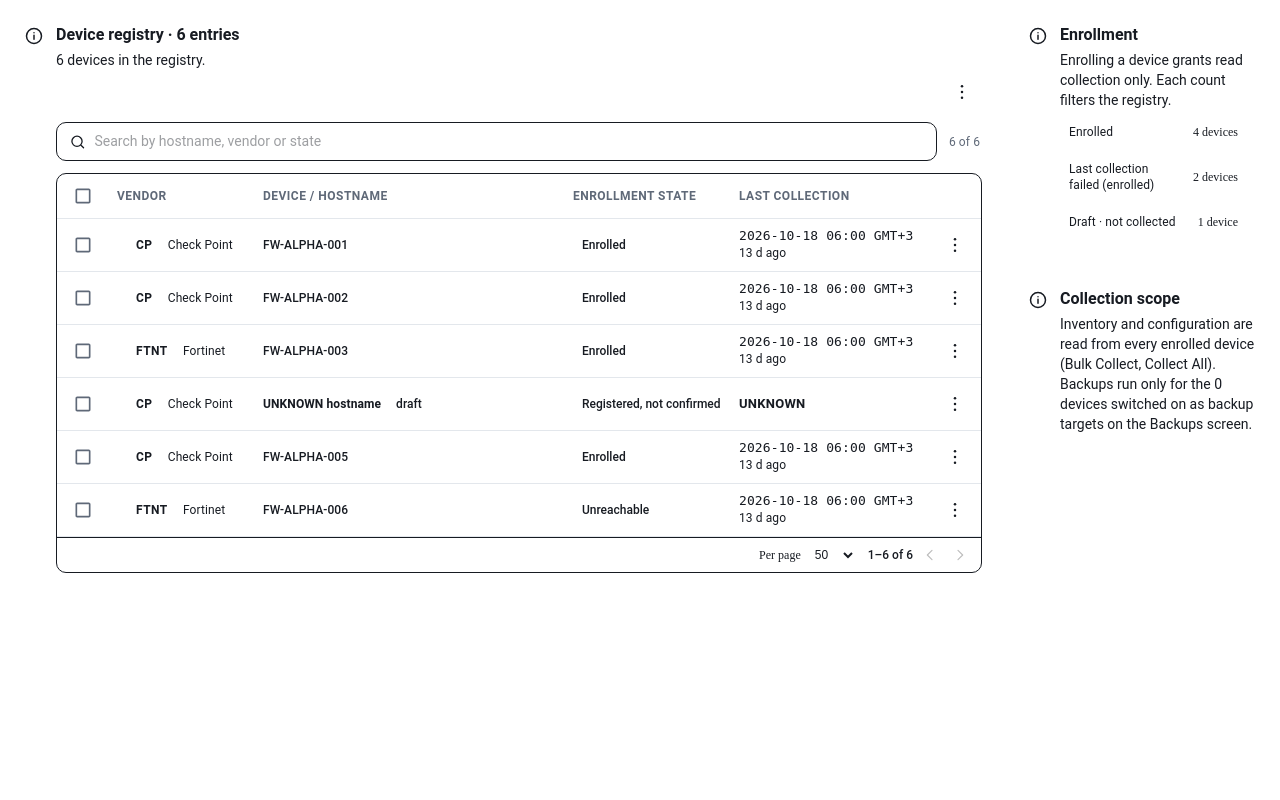
Administration device registry (UI review 2026-10-18, F-22) › selects only the rows the filters leave, so a bulk delete never reaches a row that is not in view
Expected: the text "FW-ALPHA-001" is shown, [263,238,348,252]
Click the button "Draft · not collected 1 device" at (1158,222), box [1060,204,1256,240]
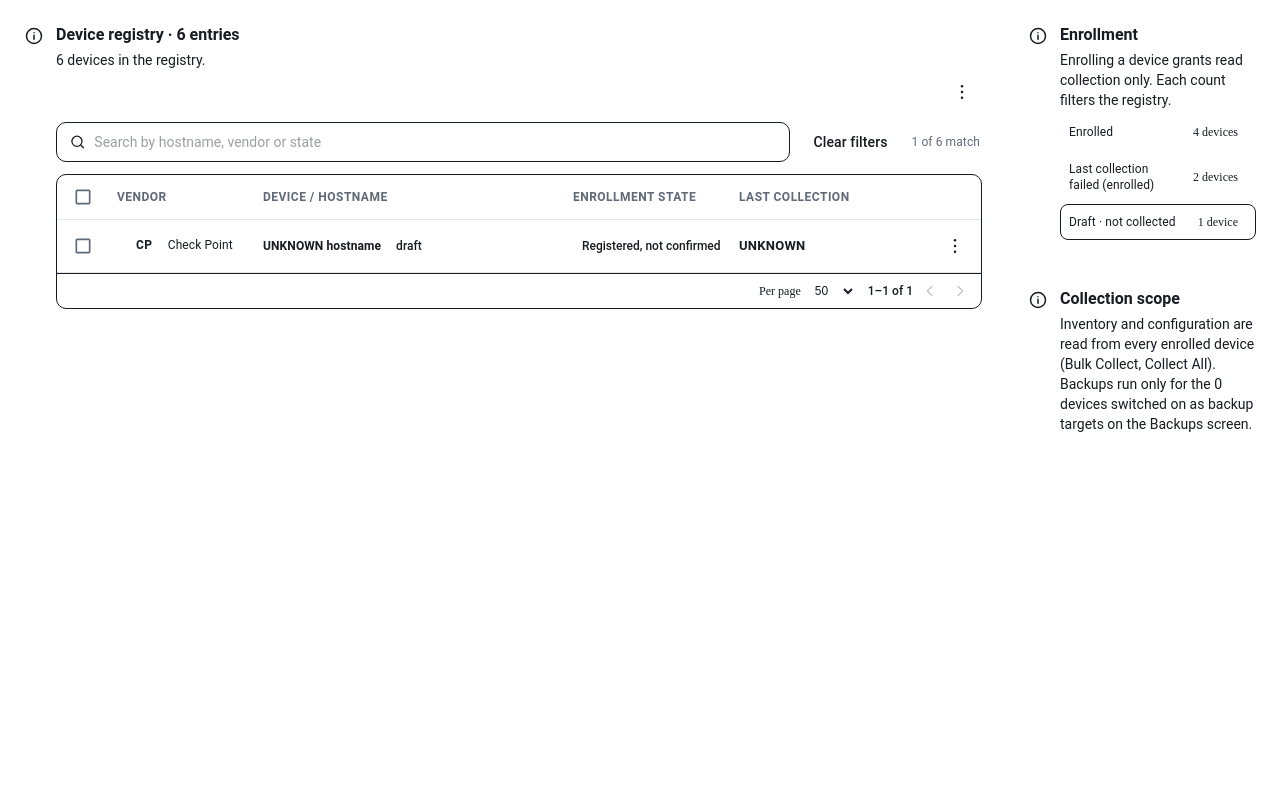
Click the checkbox named "Select all devices" at (83,197), box [73,187,93,207]
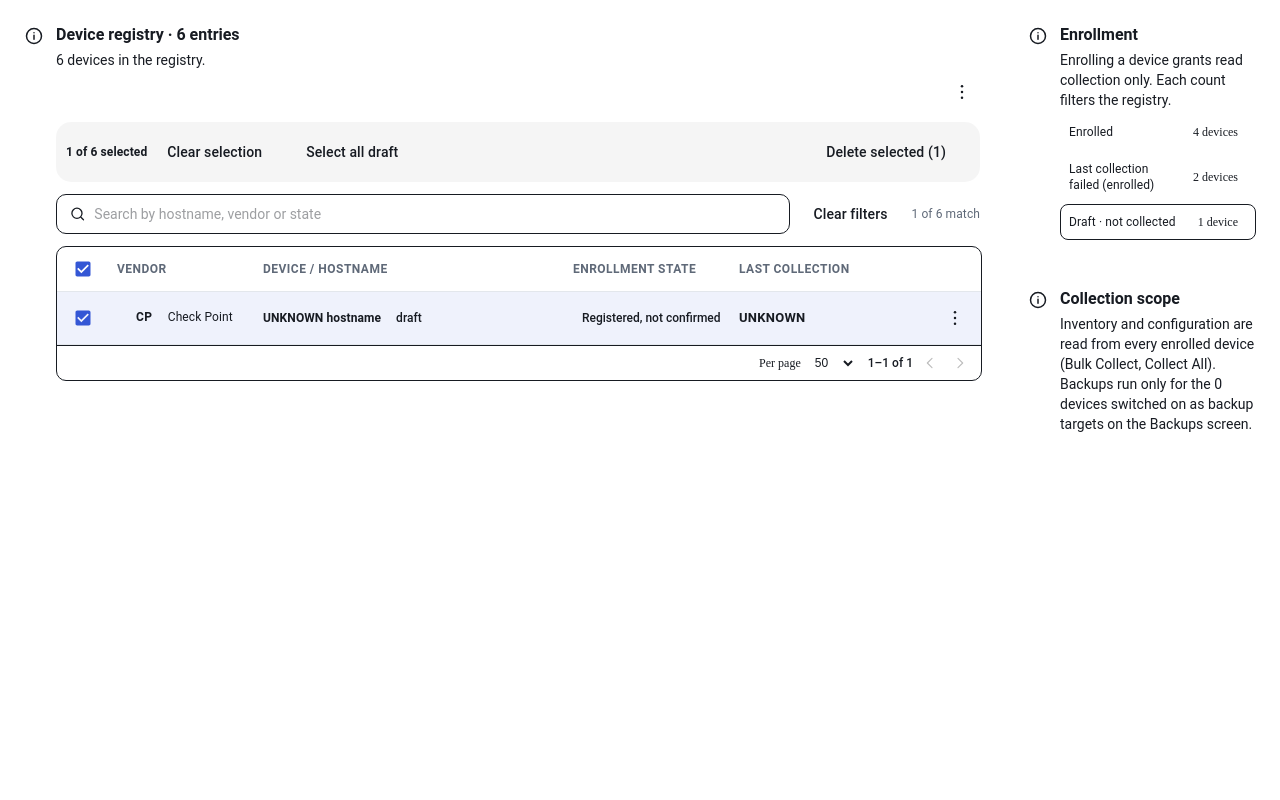
Result: the text "1 of 6 selected" is shown at [66,144,147,160]
Result: the button "Delete selected (1)" is shown at [802,132,970,172]
